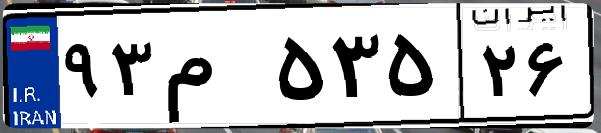2: (475, 38, 525, 113)
3: (330, 28, 385, 110), (110, 28, 158, 98)
5: (270, 28, 330, 110), (385, 28, 445, 110)
6: (525, 38, 570, 115)
9: (57, 26, 110, 100)
م: (158, 20, 270, 120)
